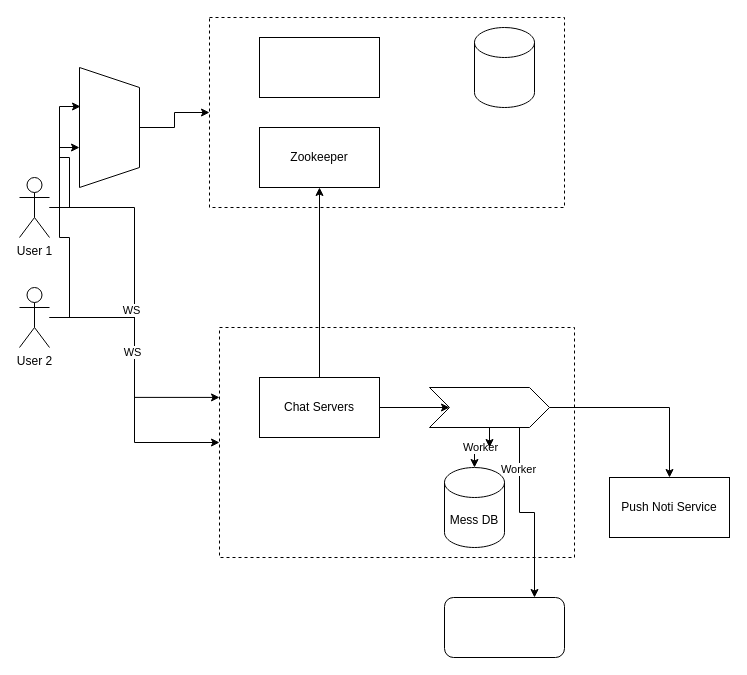
The diagram is 747 pixels wide and 675 high, and some of its shapes have lost their labels. The shapes that lost their labels are listed below. From the top down, each one's box as (x1, y1, x2, y2) in pixels, then its label:
(258, 36, 380, 98): User Service
(78, 66, 140, 188): API GW -auth -ssl -rate limit
(444, 596, 564, 658): Analytics Logging
